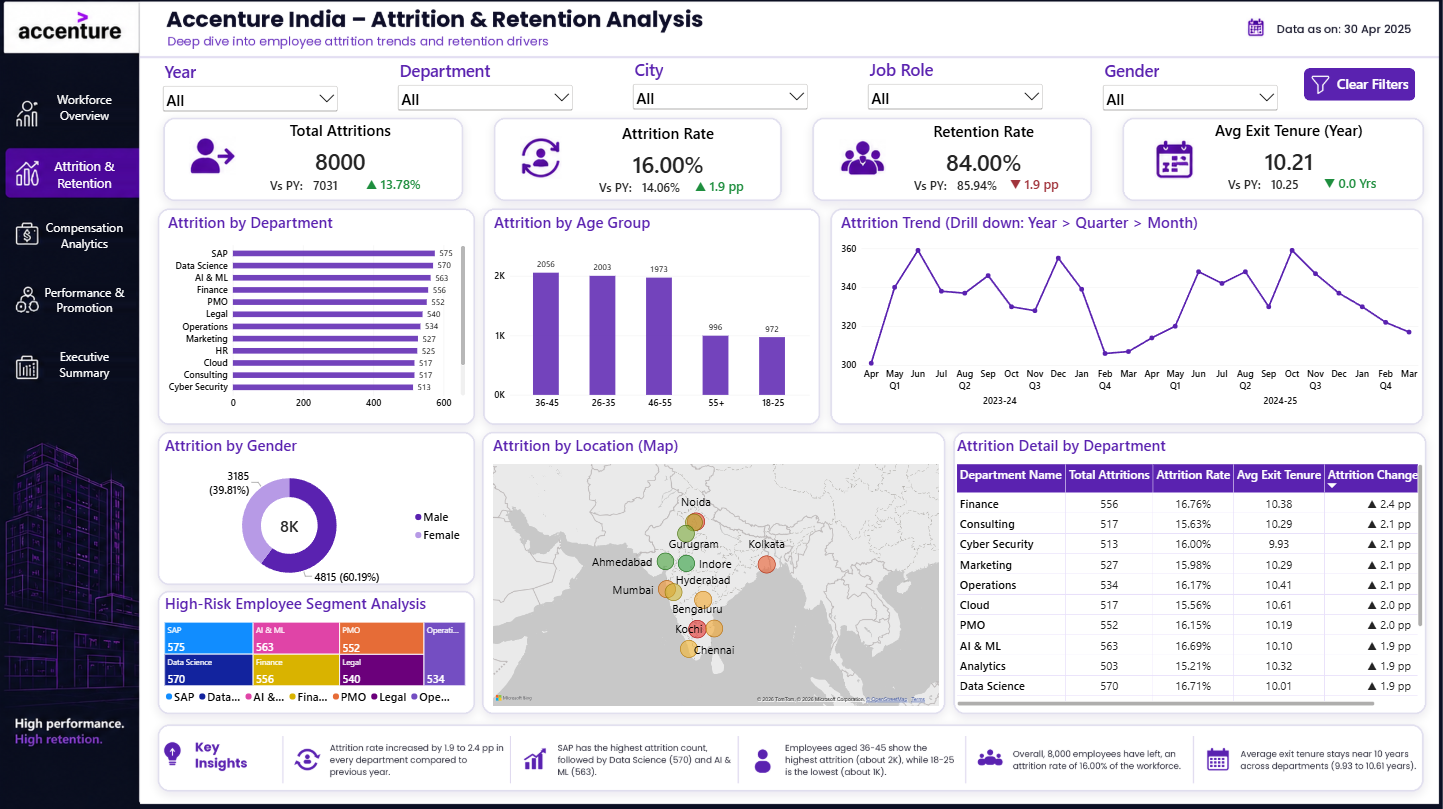

The dashboard page shown, as its layout file describes it:
{"tool":"powerbi","page":{"name":"Attrition & Retention ","canvas":[2560,1440],"ordinal":1},"visuals":[{"type":"actionButton","box":[2312.5,122.5,197.5,58.2],"z":0},{"type":"textbox","box":[479.7,313.7,78.5,30],"z":0,"group":"g1"},{"type":"textbox","box":[1620.3,314,78.5,30],"z":0,"group":"g2"},{"type":"textbox","box":[2177.5,314.4,78.5,30],"z":0,"group":"g3"},{"type":"textbox","box":[1062.8,319,78.5,30],"z":0,"group":"g4"},{"type":"slicer","fields":{"Values":["Dim Date.Financial Year"]},"box":[282.9,106.9,320,100],"z":1000,"group":"g5"},{"type":"image","box":[2322.5,135,37.5,35],"z":1000},{"type":"group","id":"g1","title":"Side-KPI","box":[479.7,309.2,287.5,37.5],"z":1000,"group":"g6"},{"type":"cardVisual","fields":{"Data":["Measures_2.Total Attritions PY"]},"box":[540.9,309.2,116.1,37.5],"z":1000,"group":"g1"},{"type":"group","id":"g2","title":"Side-KPI","box":[1620.3,309.5,287.5,37.5],"z":1000,"group":"g8"},{"type":"cardVisual","fields":{"Data":["Measures_2.Retention Rate PY"]},"box":[1681.5,309.5,116.1,37.5],"z":1000,"group":"g2"},{"type":"group","id":"g3","title":"Side-KPI","box":[2177.5,309.9,287.5,37.5],"z":1000,"group":"g9"},{"type":"cardVisual","fields":{"Data":["Measures_2.Avg Exit Tenure PY"]},"box":[2238.7,309.9,116.1,37.5],"z":1000,"group":"g3"},{"type":"group","id":"g4","title":"Side-KPI","box":[1062.8,314.5,287.5,37.5],"z":1000,"group":"g7"},{"type":"cardVisual","fields":{"Data":["Measures_1.Attrition Rate PY"]},"box":[1124,314.5,116.1,37.5],"z":1000,"group":"g4"},{"type":"group","id":"g5","title":"Slicers","box":[282.9,103.8,1986.2,103.1],"z":2000},{"type":"cardVisual","fields":{"Data":["Measures_2.Total Attritions"]},"box":[437.1,206.8,334.6,112.2],"z":2000,"group":"g6"},{"type":"cardVisual","fields":{"Data":["Measures_2.Avg Exit Tenure"]},"box":[2135.4,208.2,301.4,112.2],"z":2000,"group":"g9"},{"type":"cardVisual","fields":{"Data":["Measures_2.Retention Rate"]},"box":[1578.5,208.5,332.6,112.2],"z":2000,"group":"g8"},{"type":"cardVisual","fields":{"Data":["Measures_1.Attrition Rate"]},"box":[1009.6,213.5,351.3,112.2],"z":2000,"group":"g7"},{"type":"cardVisual","title":"%","fields":{"Data":["Measures_2.Attritions Growth Label"]},"box":[634.5,309.7,132.7,36],"z":2000,"group":"g1"},{"type":"cardVisual","title":"%","fields":{"Data":["Measures_2.Retention Change Label"]},"box":[1775.1,310,132.7,36],"z":2000,"group":"g2"},{"type":"cardVisual","title":"%","fields":{"Data":["Measures_2.Exit Tenure Change Label"]},"box":[2332.3,310.4,132.7,36],"z":2000,"group":"g3"},{"type":"cardVisual","title":"%","fields":{"Data":["Measures_1.Attrition Change Label"]},"box":[1217.6,315,132.7,36],"z":2000,"group":"g4"},{"type":"slicer","fields":{"Values":["Dim Department.Department Name"]},"box":[699.5,105.2,320,100],"z":3000,"group":"g5"},{"type":"group","id":"g6","title":"2nd KPI","box":[437.1,206.8,334.6,139.9],"z":3000},{"type":"group","id":"g7","title":"2nd KPI","box":[1009.6,213.5,351.3,138.5],"z":4000},{"type":"slicer","fields":{"Values":["Dim Location.City"]},"box":[1116,104.6,320,99.8],"z":5000,"group":"g5"},{"type":"group","id":"g8","title":"2nd KPI","box":[1578.5,208.5,332.6,138.5],"z":5000},{"type":"slicer","fields":{"Values":["Dim Job Level.Job Level"]},"box":[1532.6,103.8,320,100],"z":6000,"group":"g5"},{"type":"group","id":"g9","title":"2nd KPI","box":[2135.4,208.2,329.6,139.2],"z":6000},{"type":"slicer","fields":{"Values":["Dim Employee.Gender"]},"box":[1949.1,106,320,100],"z":7000,"group":"g5"},{"type":"clusteredBarChart","title":"Attrition by Department","fields":{"Category":["Dim Department.Department Name"],"Y":["Measures_2.Total Attritions"]},"box":[282.7,363.7,559.1,384.5],"z":7000},{"type":"columnChart","title":"Attrition by Age Group","fields":{"Category":["Dim Employee.Age Group"],"Y":["Measures_2.Total Attritions"]},"box":[860.5,363.7,592.4,384.5],"z":8000},{"type":"lineChart","title":"Attrition Trend (Drill down: Year > Quarter > Month)","fields":{"Category":["Dim Date.Financial Year","Dim Date.Fiscal Quarter","Dim Date.Month Name"],"Y":["Measures_2.Total Attritions"]},"box":[1475.8,363.7,1055.9,384.5],"z":9000},{"type":"donutChart","title":"Attrition by Gender","fields":{"Category":["Dim Employee.Gender"],"Y":["Measures_2.Total Attritions"]},"box":[282.7,758.7,559.1,299.3],"z":10000},{"type":"map","title":"Attrition by Location (Map)","fields":{"Category":["Dim Location.City"],"Size":["Measures_2.Total Attritions"]},"box":[858.4,758.7,823.1,511.3],"z":11000},{"type":"treemap","title":"High-Risk Employee Segment Analysis","fields":{"Group":["Dim Department.Department Name"],"Values":["Measures_2.Total Attritions"]},"box":[282.7,1039.3,559.1,230.7],"z":12000},{"type":"pivotTable","title":"Attrition Detail by Department","fields":{"Rows":["Dim Department.Department Name"],"Values":["Measures_2.Total Attritions","Measures_1.Attrition Rate","Measures_2.Avg Exit Tenure","Measures_1.Attrition Change Label"]},"box":[1681.5,758.7,858.4,511.3],"z":13000},{"type":"image","box":[253.6,1270,2294.7,158],"z":14000},{"type":"pageNavigator","box":[54,141.3,193.3,565.4],"z":14001}]}

Visuals, with their boxes on the page's 2560x1440 design canvas (x1, y1, x2, y2). These are canvas units, not pixel positions in the 1443x809 screenshot, which may show the page scaled, cropped or inside an application window:
actionButton: pyautogui.locateOnScreen(2312, 122, 2510, 181)
textbox: pyautogui.locateOnScreen(480, 314, 558, 344)
textbox: pyautogui.locateOnScreen(1620, 314, 1699, 344)
textbox: pyautogui.locateOnScreen(2178, 314, 2256, 344)
textbox: pyautogui.locateOnScreen(1063, 319, 1141, 349)
slicer - Dim Date.Financial Year: pyautogui.locateOnScreen(283, 107, 603, 207)
image: pyautogui.locateOnScreen(2322, 135, 2360, 170)
"Side-KPI" group: pyautogui.locateOnScreen(480, 309, 767, 347)
cardVisual - Measures_2.Total Attritions PY: pyautogui.locateOnScreen(541, 309, 657, 347)
"Side-KPI" group: pyautogui.locateOnScreen(1620, 310, 1908, 347)
cardVisual - Measures_2.Retention Rate PY: pyautogui.locateOnScreen(1682, 310, 1798, 347)
"Side-KPI" group: pyautogui.locateOnScreen(2178, 310, 2465, 347)
cardVisual - Measures_2.Avg Exit Tenure PY: pyautogui.locateOnScreen(2239, 310, 2355, 347)
"Side-KPI" group: pyautogui.locateOnScreen(1063, 314, 1350, 352)
cardVisual - Measures_1.Attrition Rate PY: pyautogui.locateOnScreen(1124, 314, 1240, 352)
"Slicers" group: pyautogui.locateOnScreen(283, 104, 2269, 207)
cardVisual - Measures_2.Total Attritions: pyautogui.locateOnScreen(437, 207, 772, 319)
cardVisual - Measures_2.Avg Exit Tenure: pyautogui.locateOnScreen(2135, 208, 2437, 320)
cardVisual - Measures_2.Retention Rate: pyautogui.locateOnScreen(1578, 208, 1911, 321)
cardVisual - Measures_1.Attrition Rate: pyautogui.locateOnScreen(1010, 214, 1361, 326)
"%" cardVisual: pyautogui.locateOnScreen(634, 310, 767, 346)
"%" cardVisual: pyautogui.locateOnScreen(1775, 310, 1908, 346)
"%" cardVisual: pyautogui.locateOnScreen(2332, 310, 2465, 346)
"%" cardVisual: pyautogui.locateOnScreen(1218, 315, 1350, 351)
slicer - Dim Department.Department Name: pyautogui.locateOnScreen(700, 105, 1020, 205)
"2nd KPI" group: pyautogui.locateOnScreen(437, 207, 772, 347)
"2nd KPI" group: pyautogui.locateOnScreen(1010, 214, 1361, 352)
slicer - Dim Location.City: pyautogui.locateOnScreen(1116, 105, 1436, 204)
"2nd KPI" group: pyautogui.locateOnScreen(1578, 208, 1911, 347)
slicer - Dim Job Level.Job Level: pyautogui.locateOnScreen(1533, 104, 1853, 204)
"2nd KPI" group: pyautogui.locateOnScreen(2135, 208, 2465, 347)
slicer - Dim Employee.Gender: pyautogui.locateOnScreen(1949, 106, 2269, 206)
"Attrition by Department" clusteredBarChart: pyautogui.locateOnScreen(283, 364, 842, 748)
"Attrition by Age Group" columnChart: pyautogui.locateOnScreen(860, 364, 1453, 748)
"Attrition Trend (Drill down: Year > Quarter > Month)" lineChart: pyautogui.locateOnScreen(1476, 364, 2532, 748)
"Attrition by Gender" donutChart: pyautogui.locateOnScreen(283, 759, 842, 1058)
"Attrition by Location (Map)" map: pyautogui.locateOnScreen(858, 759, 1682, 1270)
"High-Risk Employee Segment Analysis" treemap: pyautogui.locateOnScreen(283, 1039, 842, 1270)
"Attrition Detail by Department" pivotTable: pyautogui.locateOnScreen(1682, 759, 2540, 1270)
image: pyautogui.locateOnScreen(254, 1270, 2548, 1428)
pageNavigator: pyautogui.locateOnScreen(54, 141, 247, 707)
